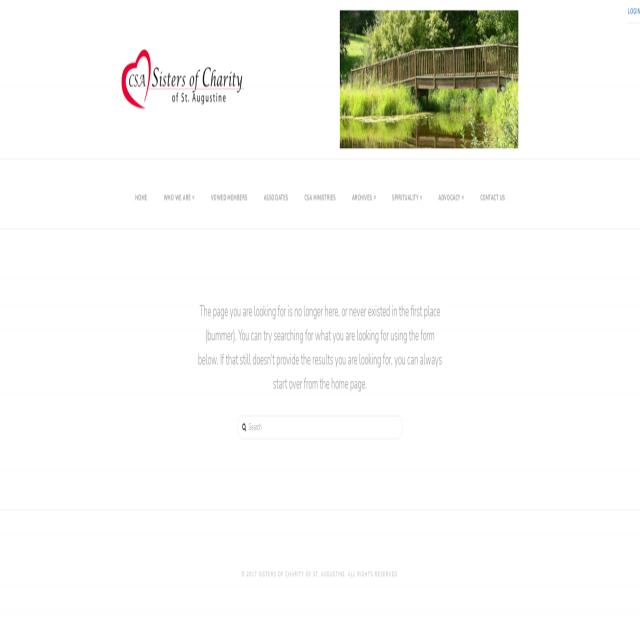button: (122, 10, 244, 148), (202, 160, 255, 228), (296, 160, 344, 228), (156, 160, 203, 228), (384, 160, 430, 228), (430, 160, 472, 228), (472, 160, 513, 228), (256, 160, 296, 228), (344, 160, 384, 228), (127, 160, 155, 228)
field: (237, 416, 403, 438)
